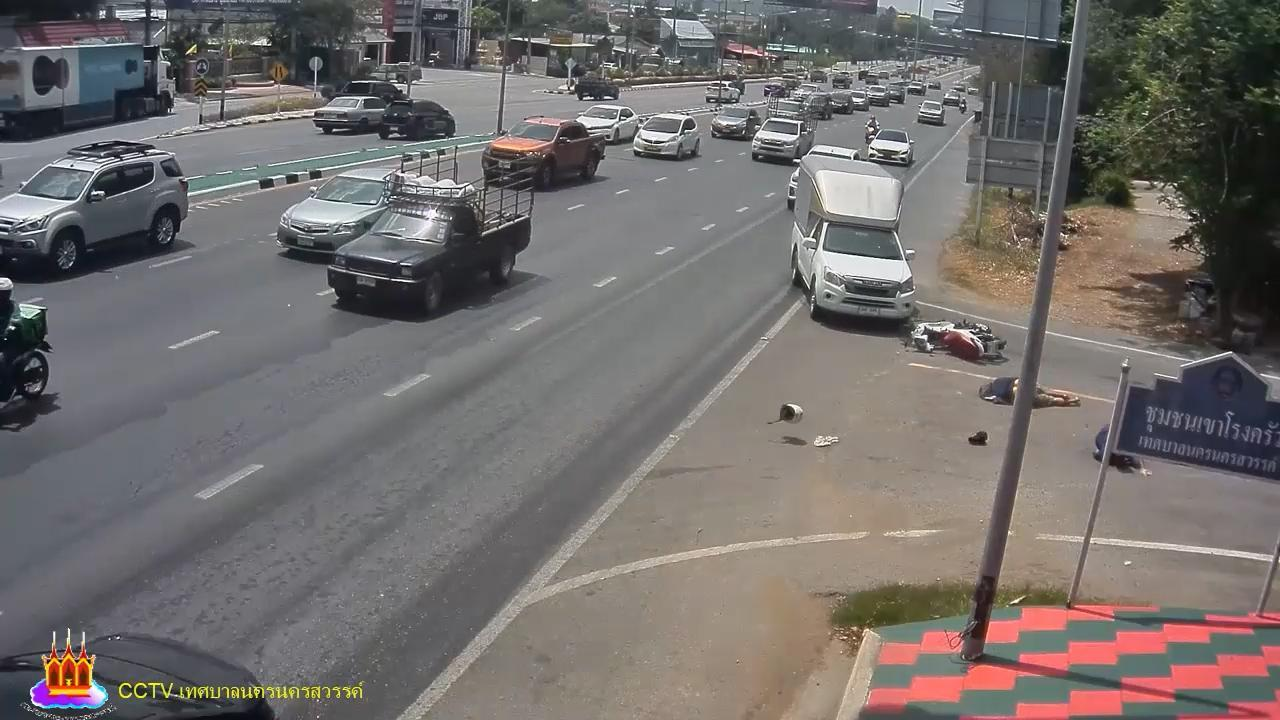accident: (978, 375, 1083, 411)
